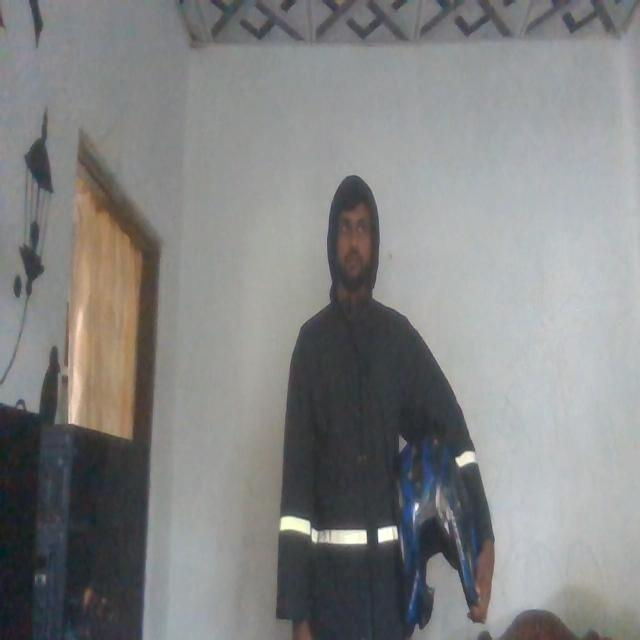Jacket_Wearer: (276, 288, 472, 640)
Person: (266, 152, 486, 640)
